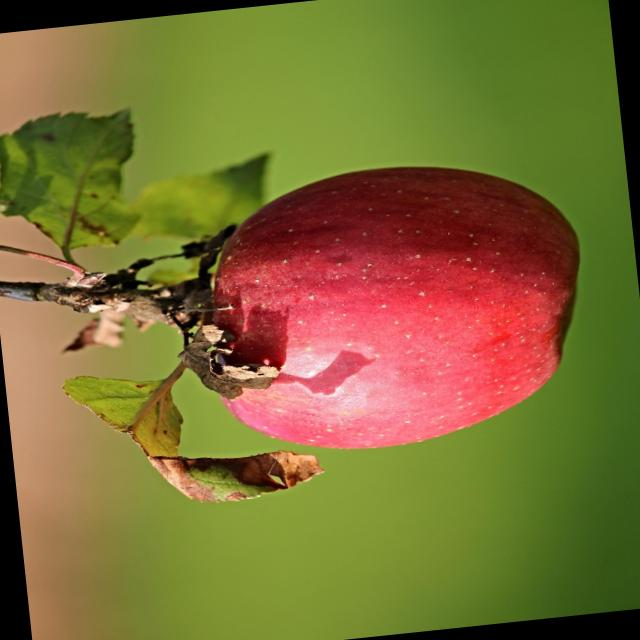apple_fruit: (169, 143, 614, 467)
